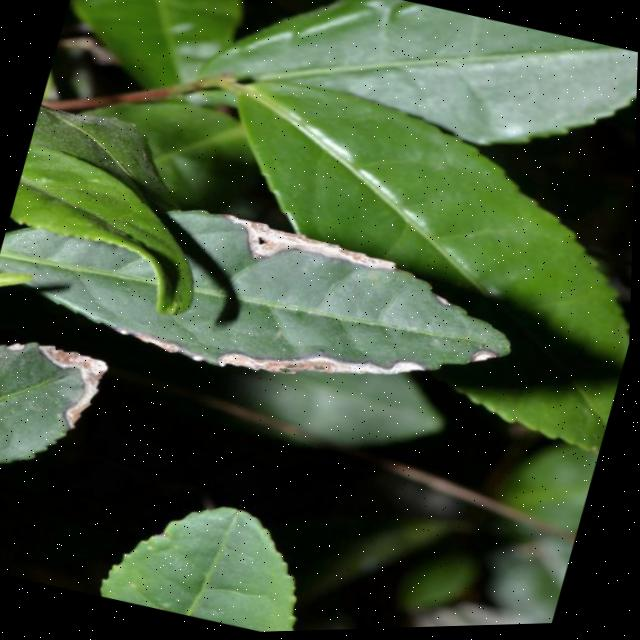Tea cloud leaf blight: (127, 264, 462, 433), (207, 209, 462, 322)
